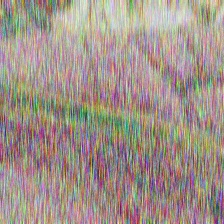Leaf_Blast: (19, 68, 195, 171)
